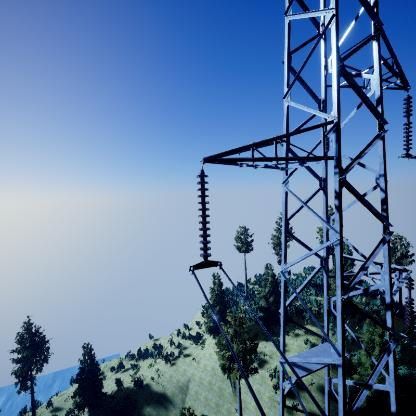insulator: (194, 171, 212, 260), (401, 95, 414, 158)
